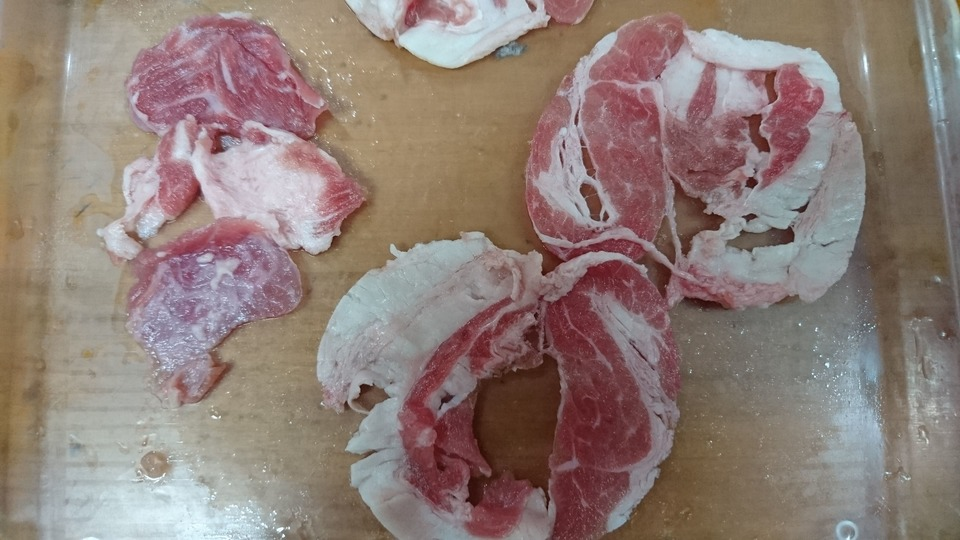restructured meat: (312, 235, 669, 540), (518, 1, 875, 304), (123, 18, 345, 404)
